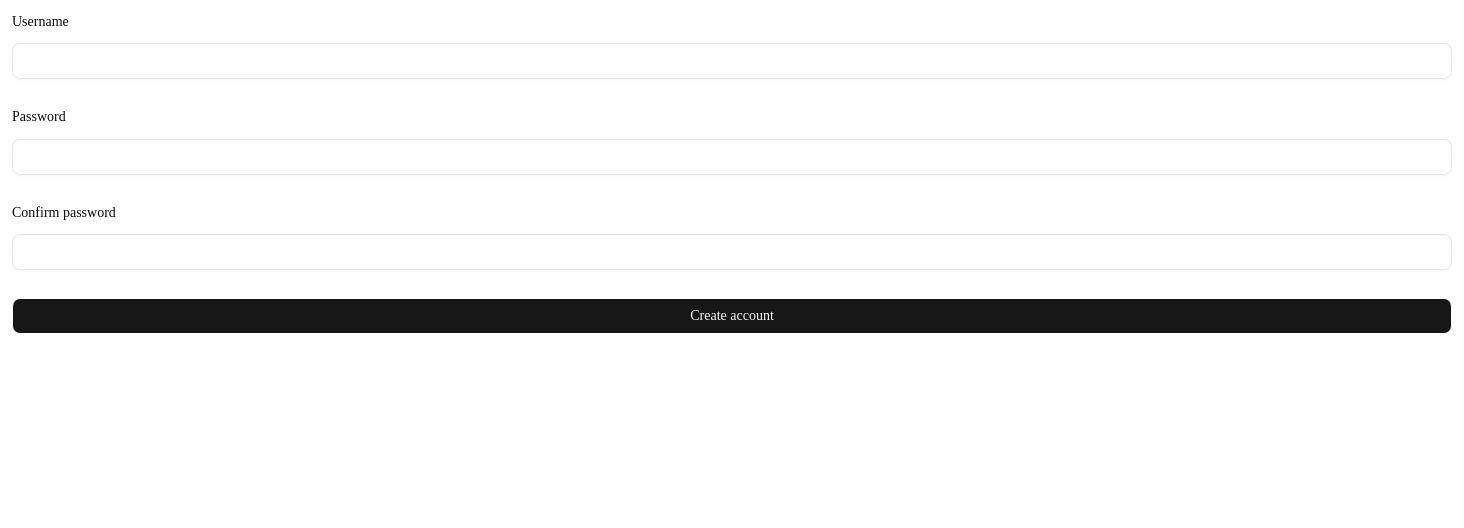
it: SetupForm › validates the username format
In the field labelled "Username": (732, 61) [12,43,1452,79], type "-invalid"
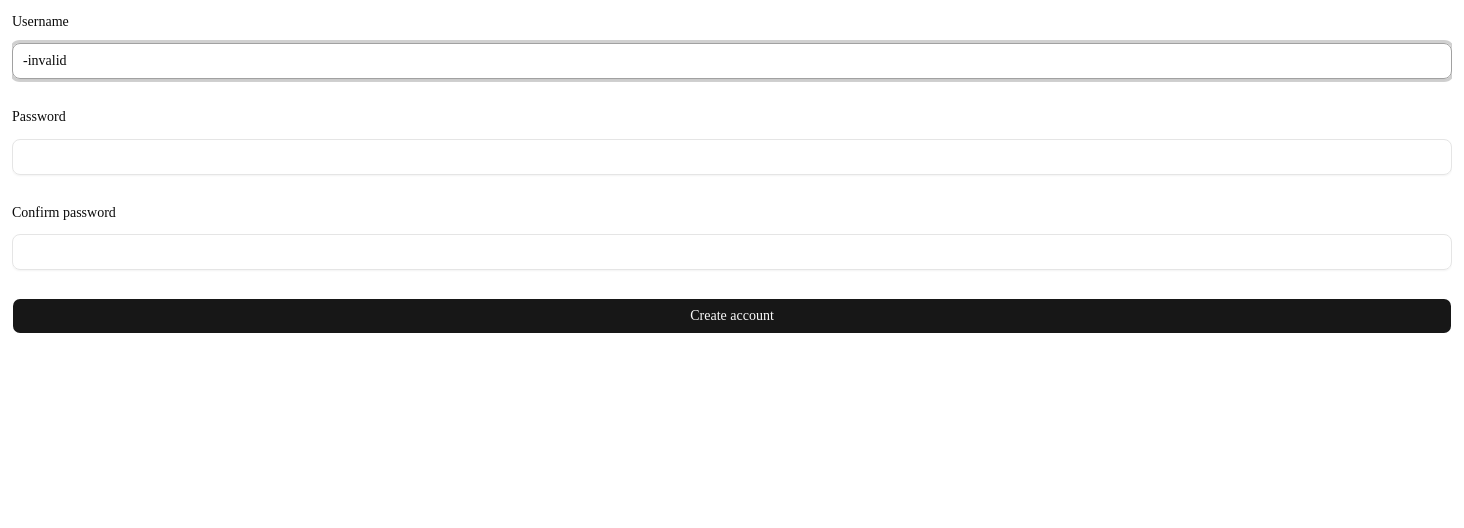
In the password field labelled "Password": (732, 156) [12,138,1452,174], type "a-really-strong-password"
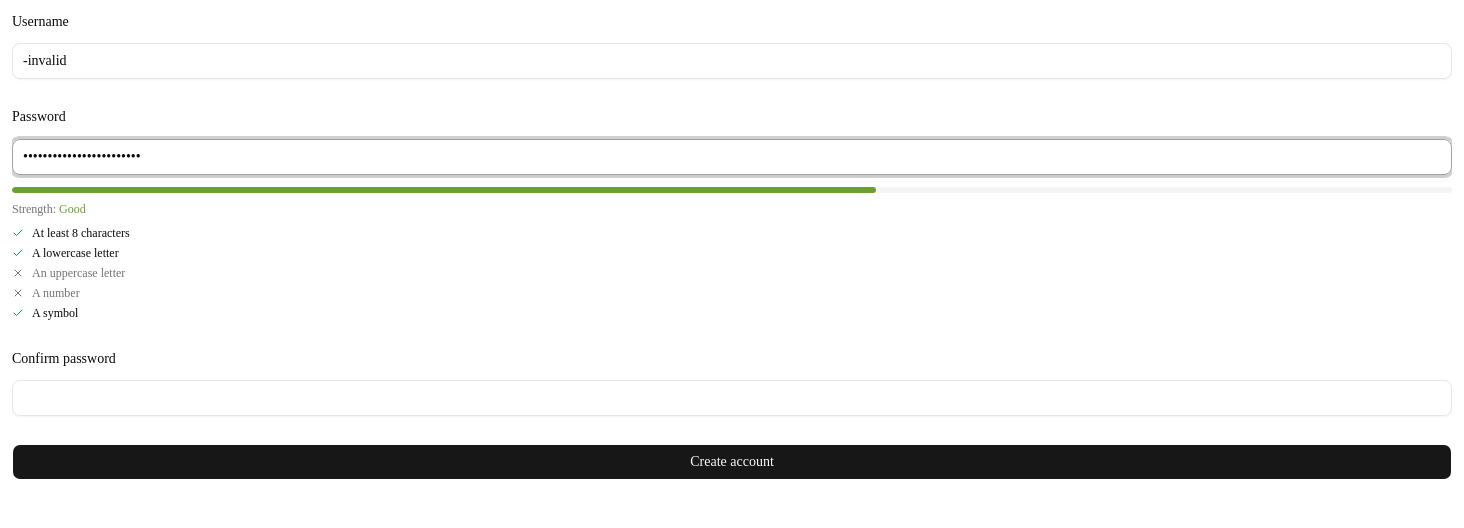
In the password field labelled "Confirm password": (732, 398) [12,380,1452,416], type "a-really-strong-password"
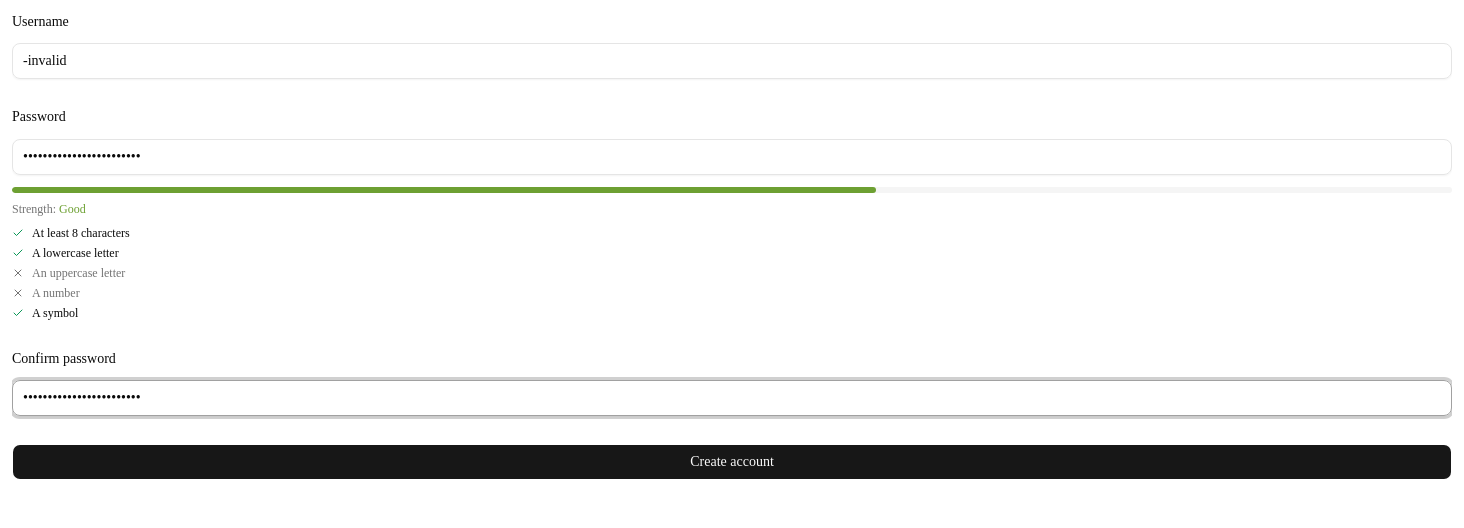
Click the button "Create account": (732, 462) [12,444,1452,480]
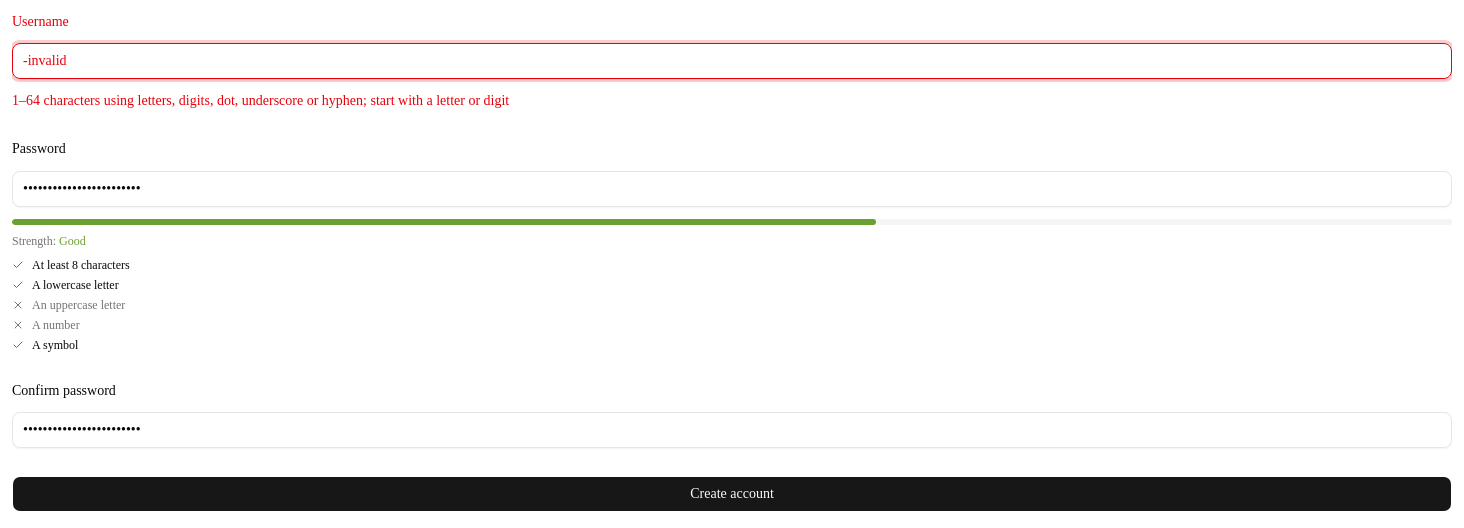
Now the text "1–64 characters" is shown, box [12,93,509,108]
